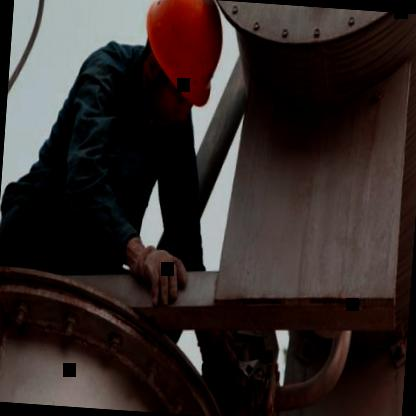helmet: (124, 0, 238, 140)
